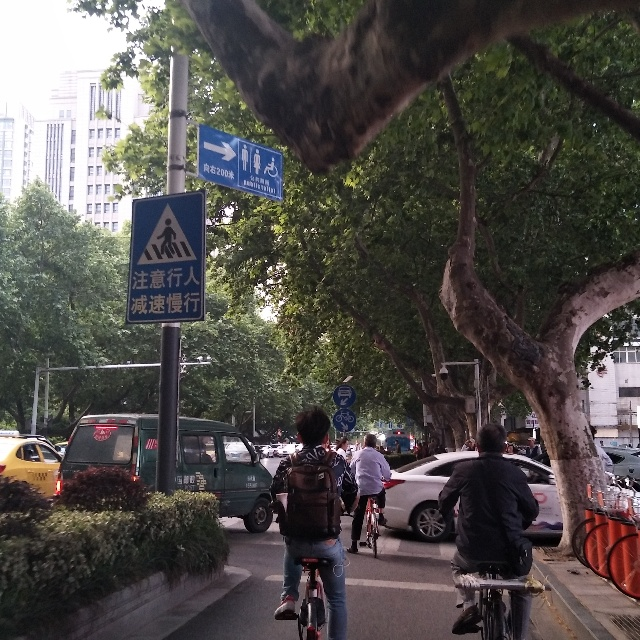crosswalk: (129, 197, 201, 272)
